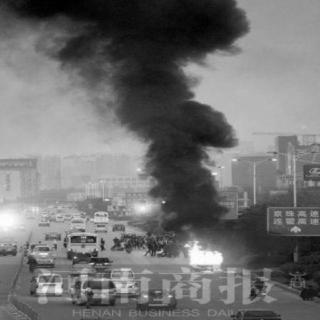Fire: (171, 231, 235, 275)
Smoke: (19, 2, 243, 220)
other: (0, 200, 39, 234)
